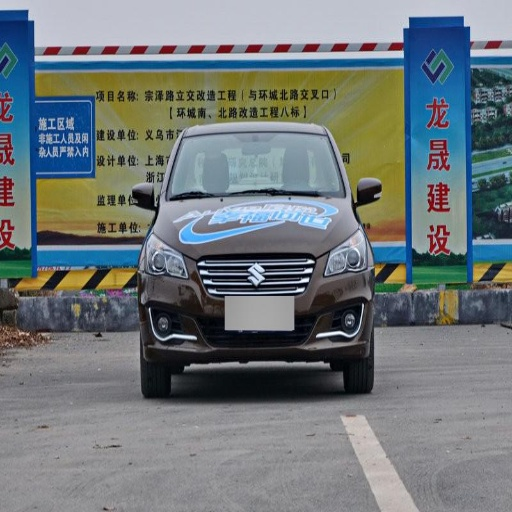front_bumper: (141, 252, 372, 364)
front_right_light: (144, 237, 189, 279)
hood: (155, 198, 357, 256)
